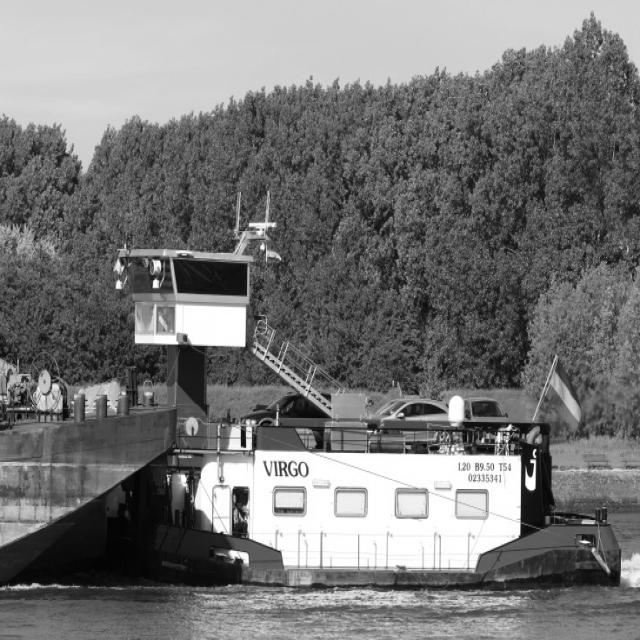tugboat: (69, 188, 629, 599)
